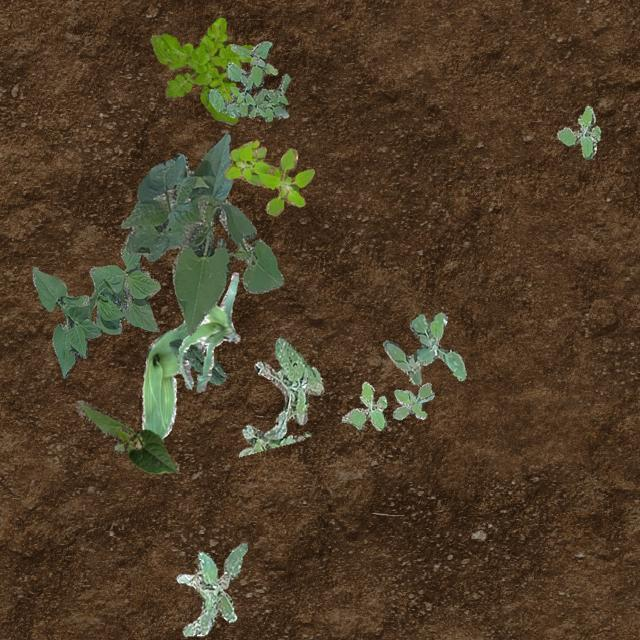crop: (120, 133, 282, 334), (32, 242, 160, 378), (140, 236, 224, 438), (74, 400, 178, 472), (176, 272, 238, 392), (168, 338, 226, 383)
weed: (150, 17, 252, 124), (236, 336, 322, 456), (174, 542, 247, 636), (224, 140, 314, 214), (206, 41, 290, 120), (382, 312, 466, 384), (556, 104, 600, 158), (340, 380, 386, 430), (392, 382, 432, 418)
